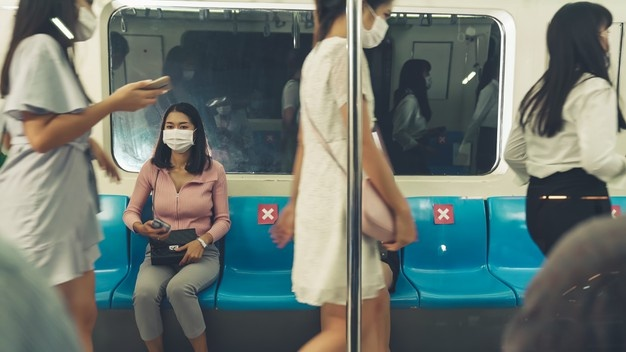with_incorrect_mask: (69, 1, 101, 42)
with_mask: (362, 3, 393, 47), (163, 115, 196, 154)
